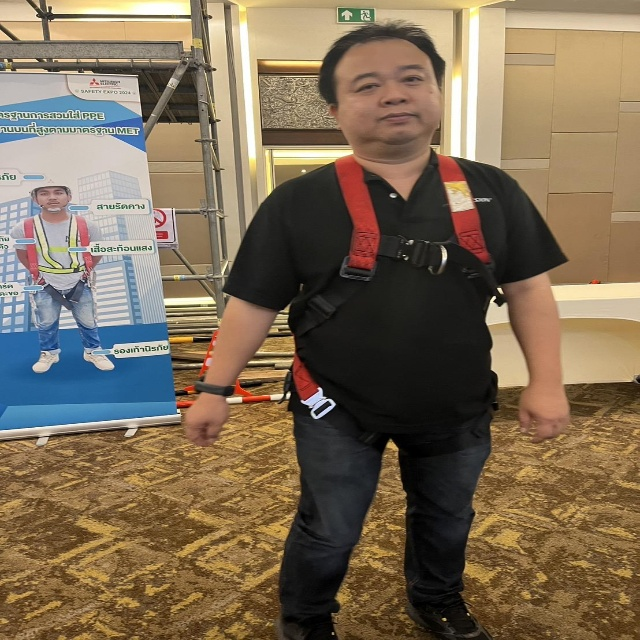Arnes_seguridad: (301, 145, 503, 424)
